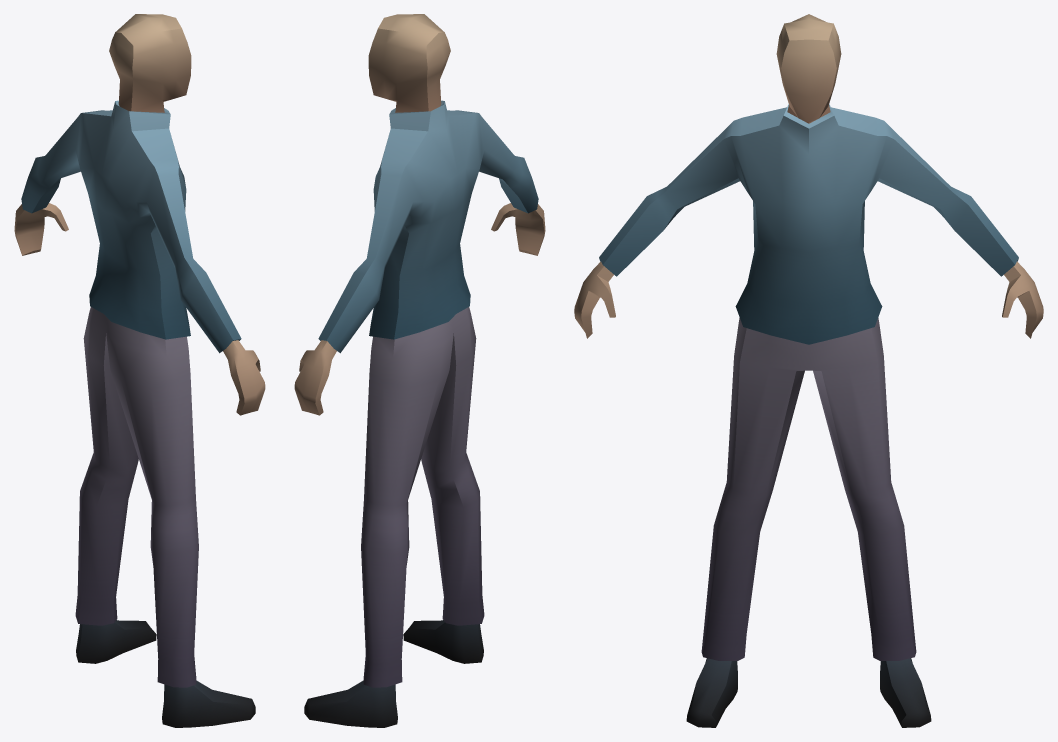
Rendered from Character.fbx.
The picture shows the model from 3 angles, left to right: view 1: azimuth 30°, elevation 25°; view 2: azimuth 150°, elevation 25°; view 3: azimuth 270°, elevation 25°; orthographic projection.
Parts seen in each view (by area): view 1: Cube.297; view 2: Cube.297; view 3: Cube.297.
Boxes of the visible parts, <box> form: Cube.297: <box>14,14,265,727</box>; Cube.297: <box>294,14,545,727</box>; Cube.297: <box>574,14,1043,727</box>.
Size of the model in its own units: 26.93 by 170 by 106.
Materials: 1 (1 with a texture image).
